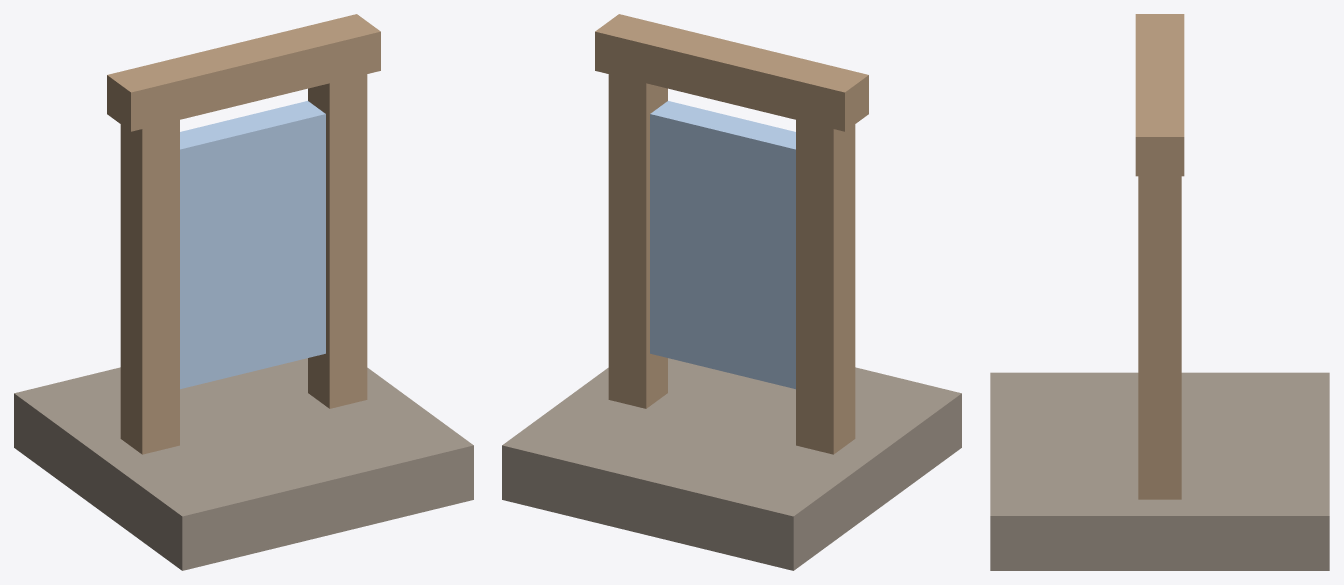
Rendered from SM_Shrine_Return.fbx.
3 views of the same model, side by side, from view 1: azimuth 30°, elevation 25°; view 2: azimuth 150°, elevation 25°; view 3: azimuth 270°, elevation 25° (orthographic).
Parts seen in each view (by area): view 1: SM_Shrine_Return_Base, SM_Shrine_Return_Glow, SM_Shrine_Return_Post_L, SM_Shrine_Return_Lintel, SM_Shrine_Return_Post_R; view 2: SM_Shrine_Return_Base, SM_Shrine_Return_Glow, SM_Shrine_Return_Post_L, SM_Shrine_Return_Lintel, SM_Shrine_Return_Post_R; view 3: SM_Shrine_Return_Base, SM_Shrine_Return_Post_R, SM_Shrine_Return_Lintel.
Boxes of the visible parts, bbox=[...] form: SM_Shrine_Return_Base: bbox=[14, 358, 473, 570]; SM_Shrine_Return_Glow: bbox=[180, 101, 325, 389]; SM_Shrine_Return_Post_L: bbox=[120, 120, 179, 454]; SM_Shrine_Return_Lintel: bbox=[107, 14, 380, 131]; SM_Shrine_Return_Post_R: bbox=[308, 74, 367, 408]; SM_Shrine_Return_Base: bbox=[502, 358, 961, 570]; SM_Shrine_Return_Glow: bbox=[650, 101, 795, 389]; SM_Shrine_Return_Post_L: bbox=[796, 120, 855, 454]; SM_Shrine_Return_Lintel: bbox=[595, 14, 868, 131]; SM_Shrine_Return_Post_R: bbox=[608, 74, 667, 408]; SM_Shrine_Return_Base: bbox=[990, 372, 1329, 570]; SM_Shrine_Return_Post_R: bbox=[1138, 176, 1181, 499]; SM_Shrine_Return_Lintel: bbox=[1135, 14, 1184, 176].
Size of what is drawn, in the model's own units: 1.4 by 1.4 by 1.93.
